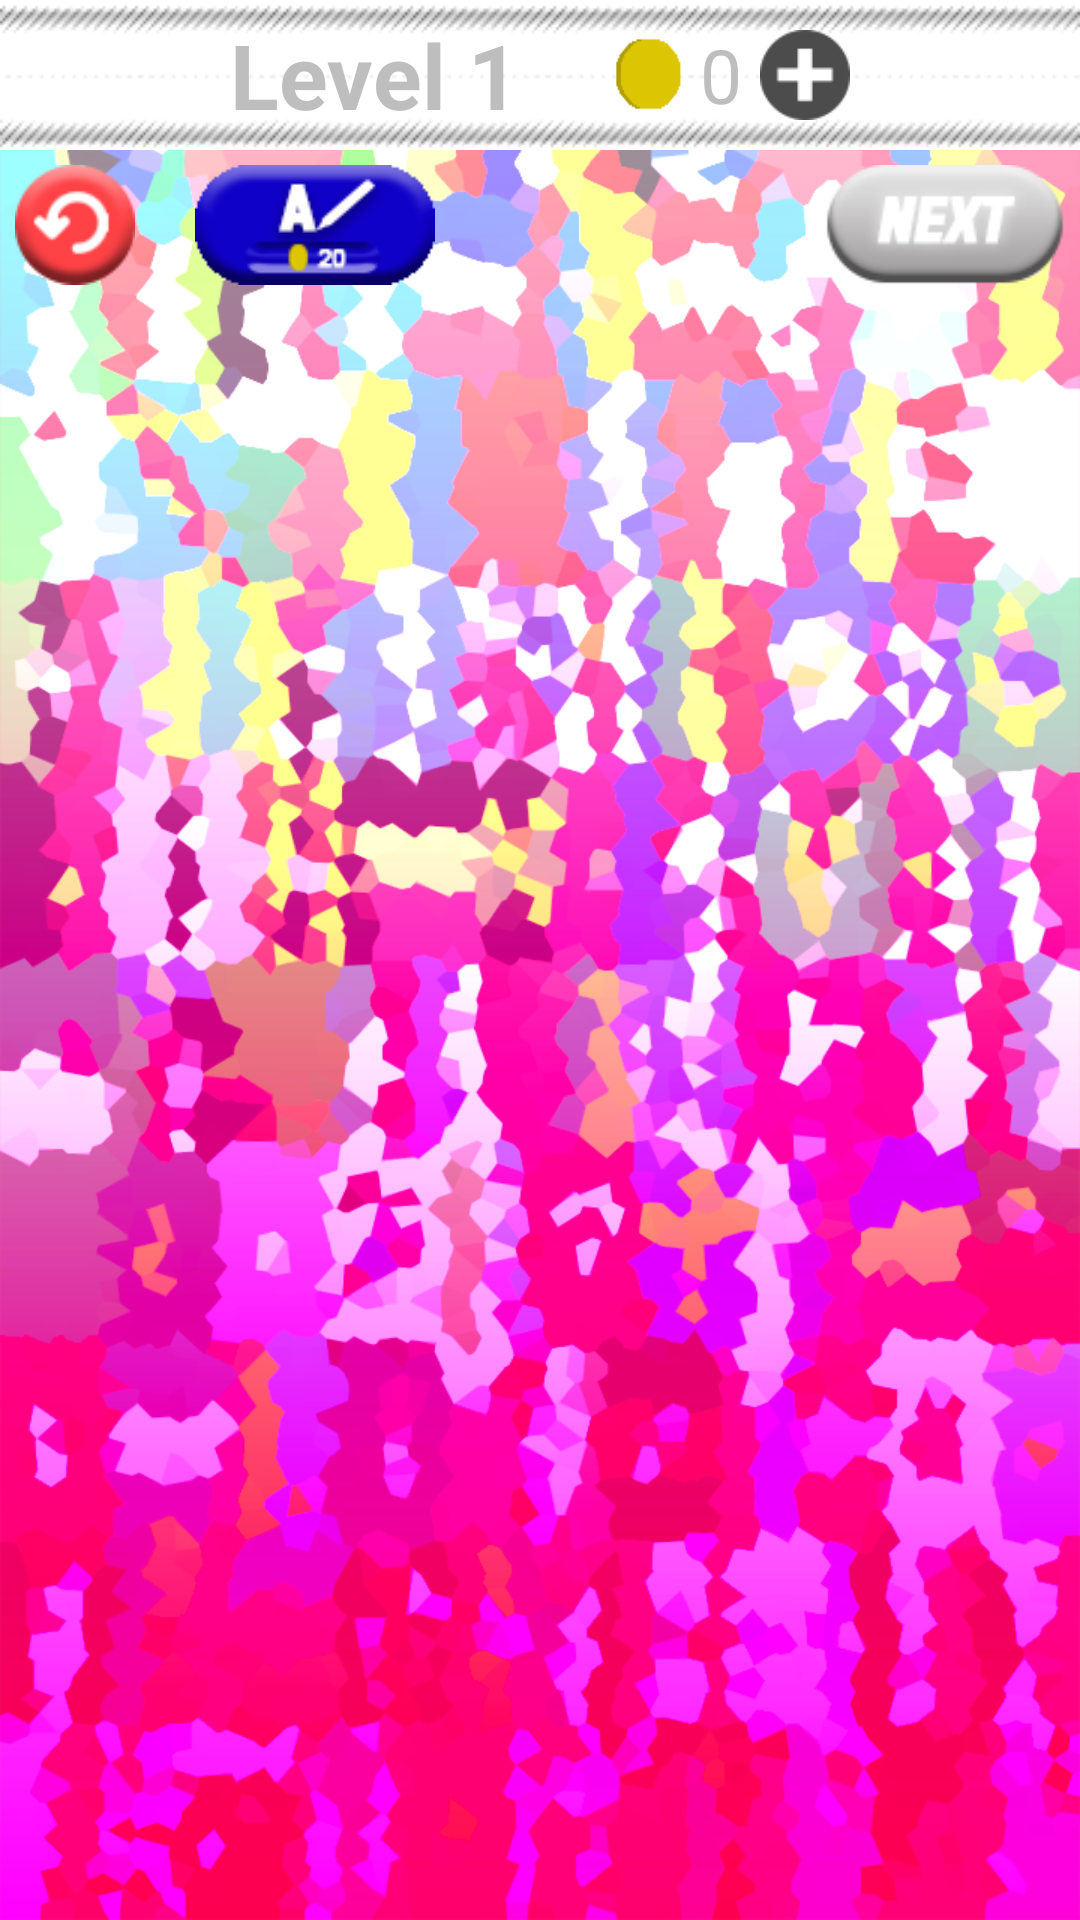

Screen size 1080 × 1920. Icon name, then its center in pixels as (x=x, y=y):
buyletter: (x=315, y=225)
coin: (x=648, y=74)
plusbtn: (x=805, y=75)
redobutton: (x=75, y=225)
